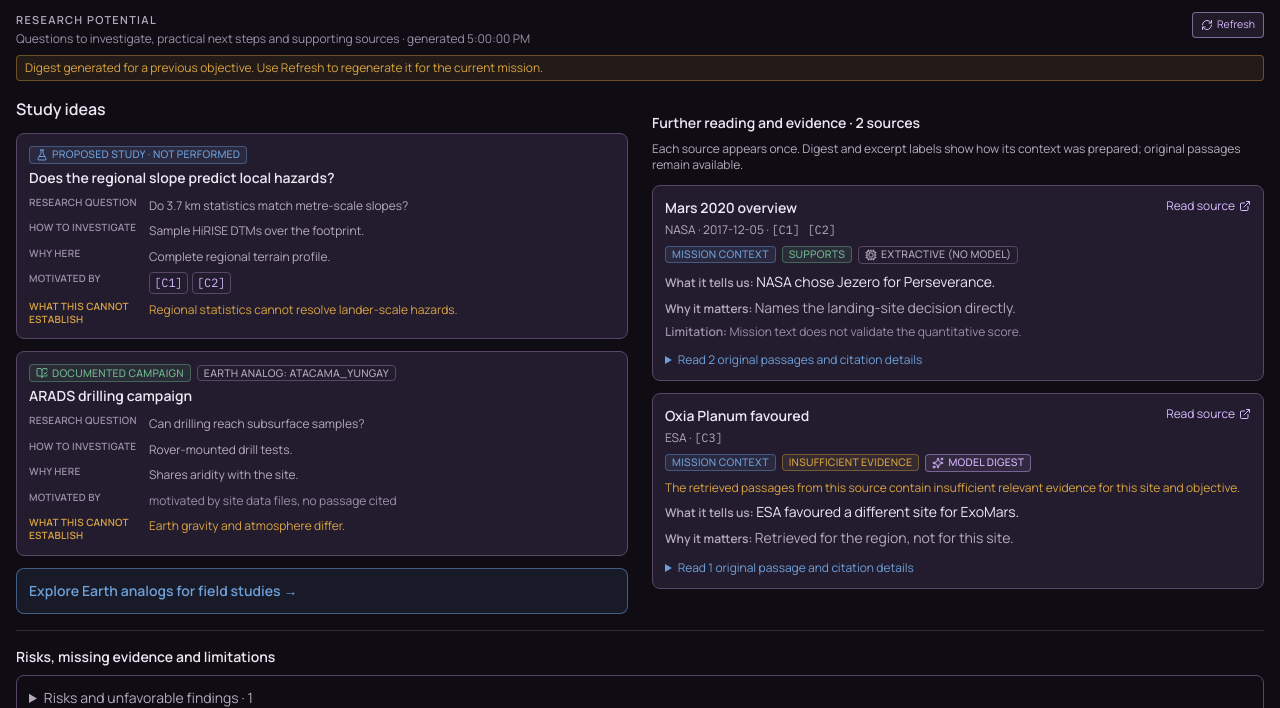
it: ExplanationPanel digests and study cards › keeps the previous digest with a note when the applied objective changes, and offers Refresh
expect the text "Digest generated for a previous objective" is shown: met, box top-left (25, 58), bottom-right (254, 76)
expect the text "NASA chose Jezero for Perseverance." is shown: met, box top-left (756, 272), bottom-right (995, 290)
Step 1. Click the button with aria-label "Refresh the explanation" → (1228, 25), box top-left (1192, 12), bottom-right (1264, 38)
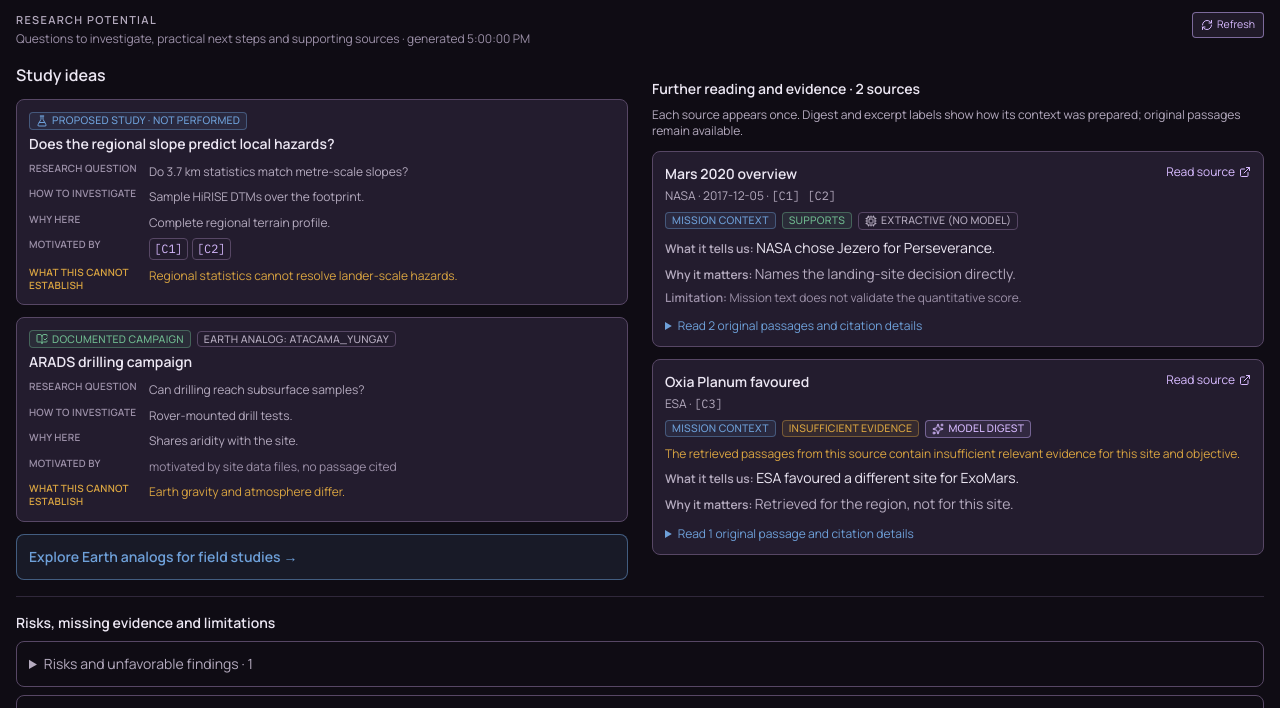
expect the text "Digest generated for a previous objective" is gone: met
